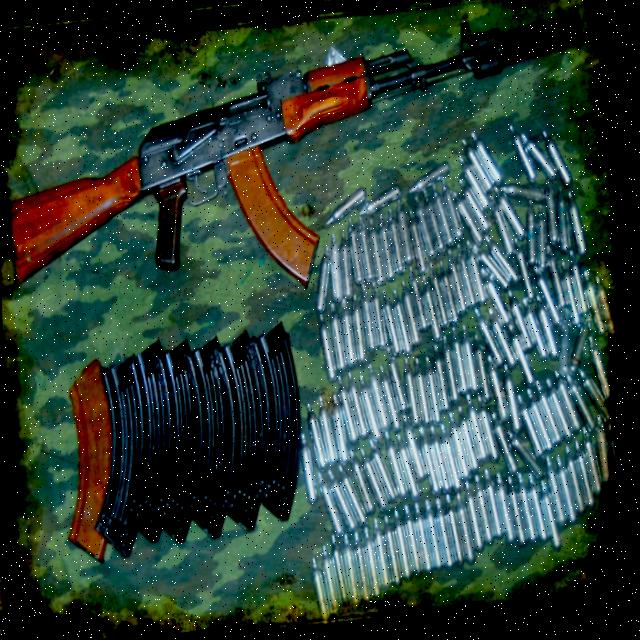firearm: (0, 0, 605, 319)
